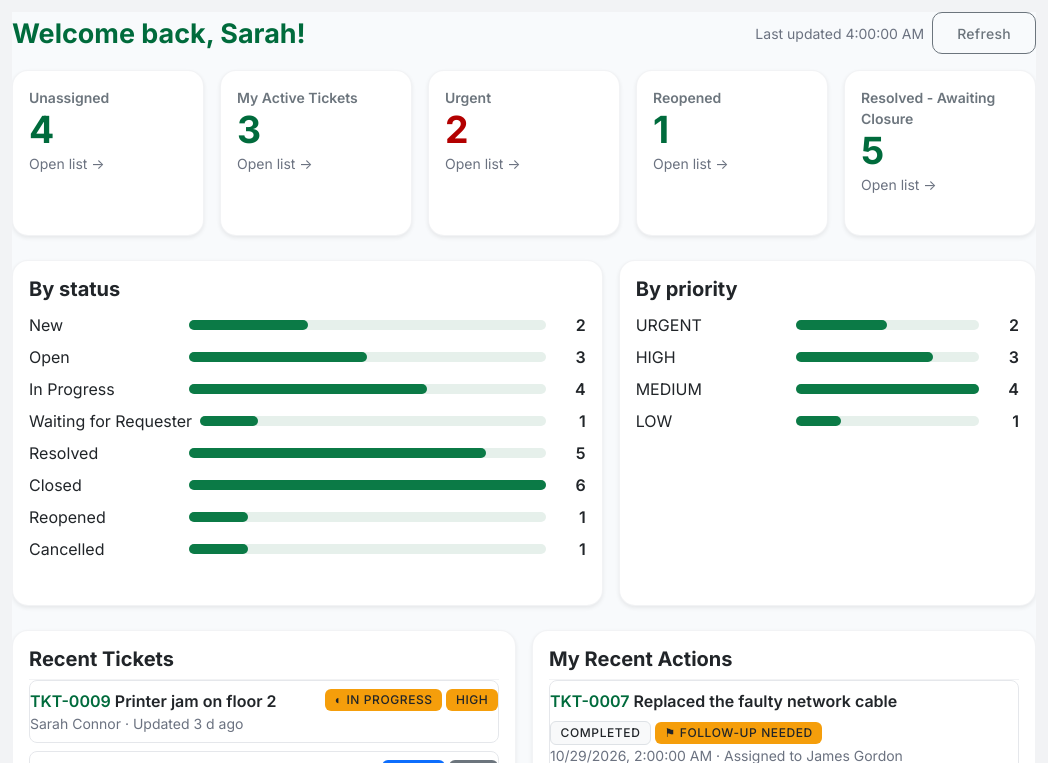
Test: Lab 4: IT Staff dashboard (Issue #33) › UI-15: Refresh loads the numbers again
The image size is (1048, 763).
expect the link with aria-label "Unassigned: 4. Open list." is shown: met, box [12,70,204,236]
Click the button "Refresh" at (984, 33), box [932,12,1036,54]
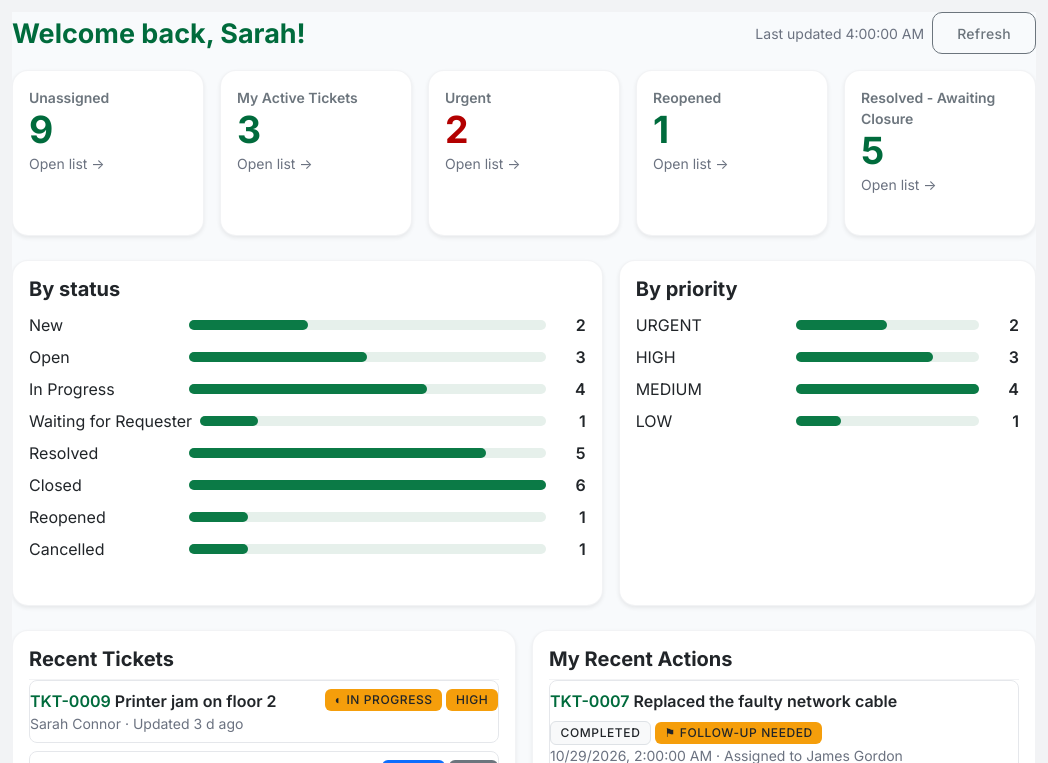
expect the link with aria-label "Unassigned: 9. Open list." is shown: met, box [12,70,204,236]
